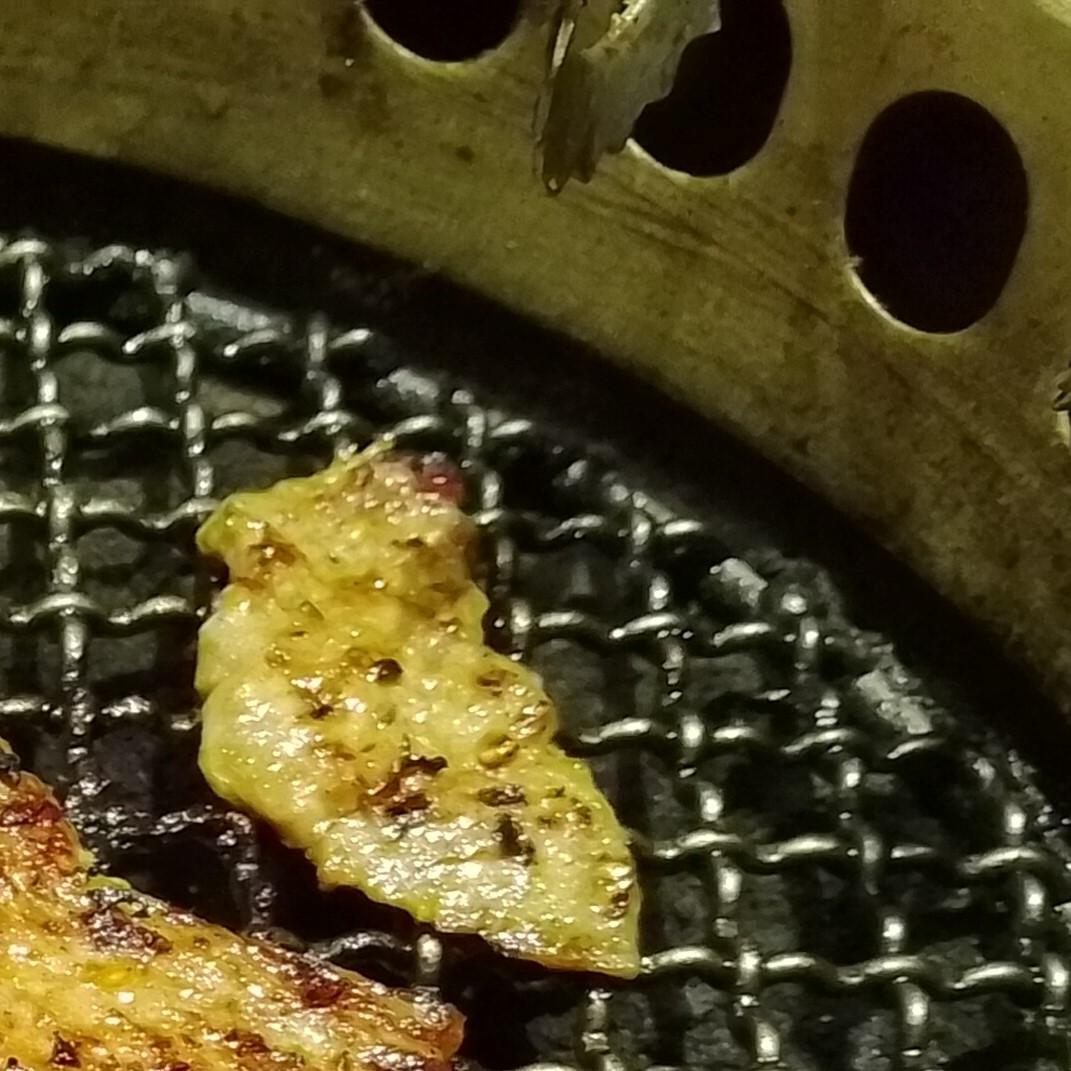Overcooked: (0, 758, 458, 1070)
Well-Cooked: (194, 451, 643, 984)
